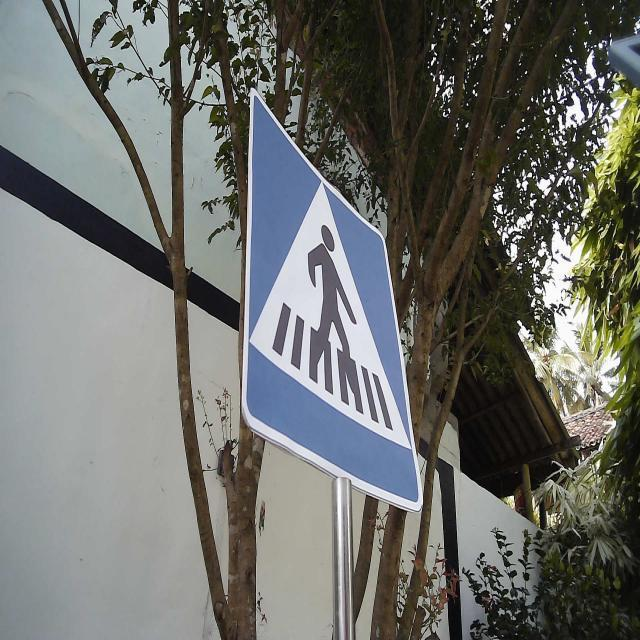crosswalk_sign: (240, 86, 426, 515)
